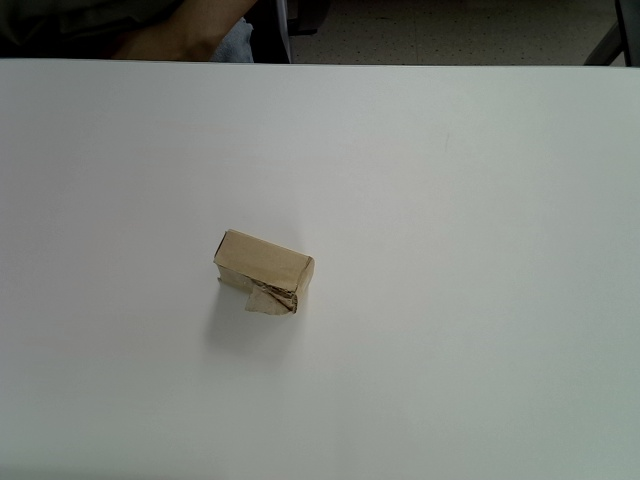defect: (214, 228, 316, 317)
